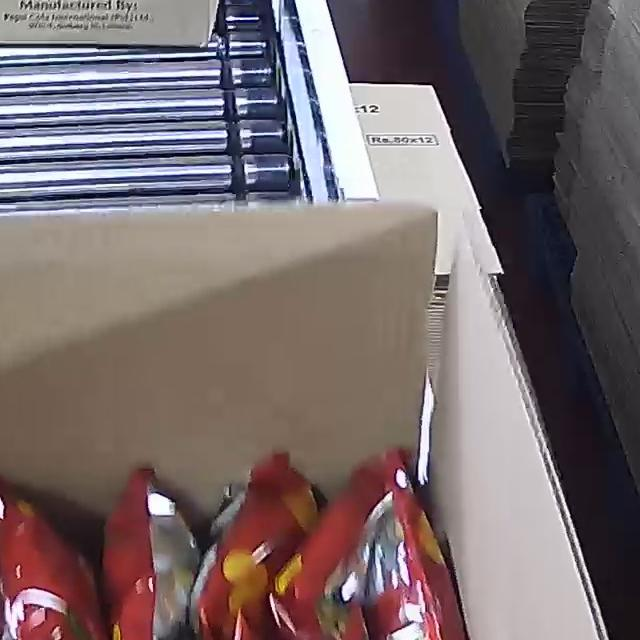masala: (0, 445, 523, 640)
